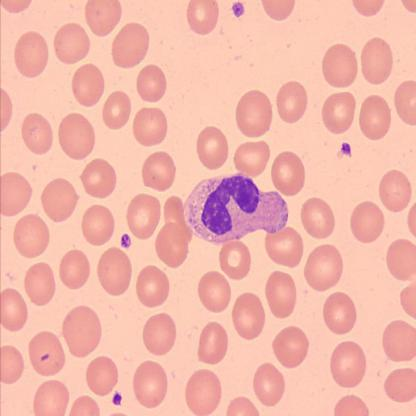Band Neutrophil: (181, 167, 291, 247)
